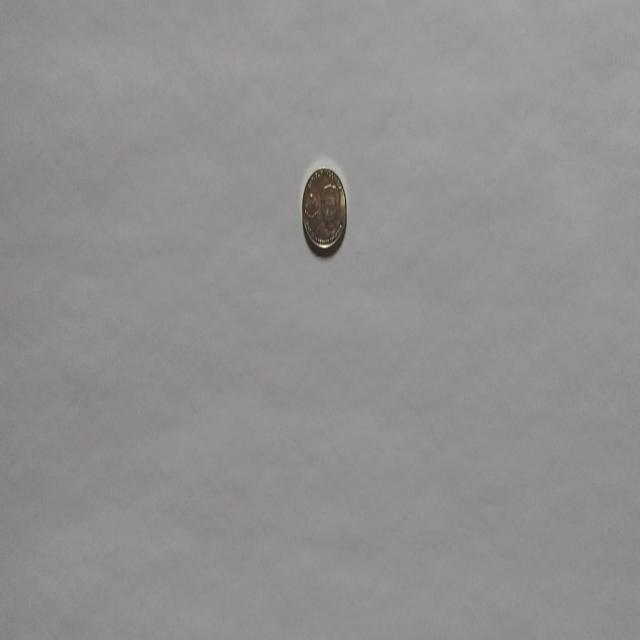seratus rupiah: (301, 166, 347, 254)
